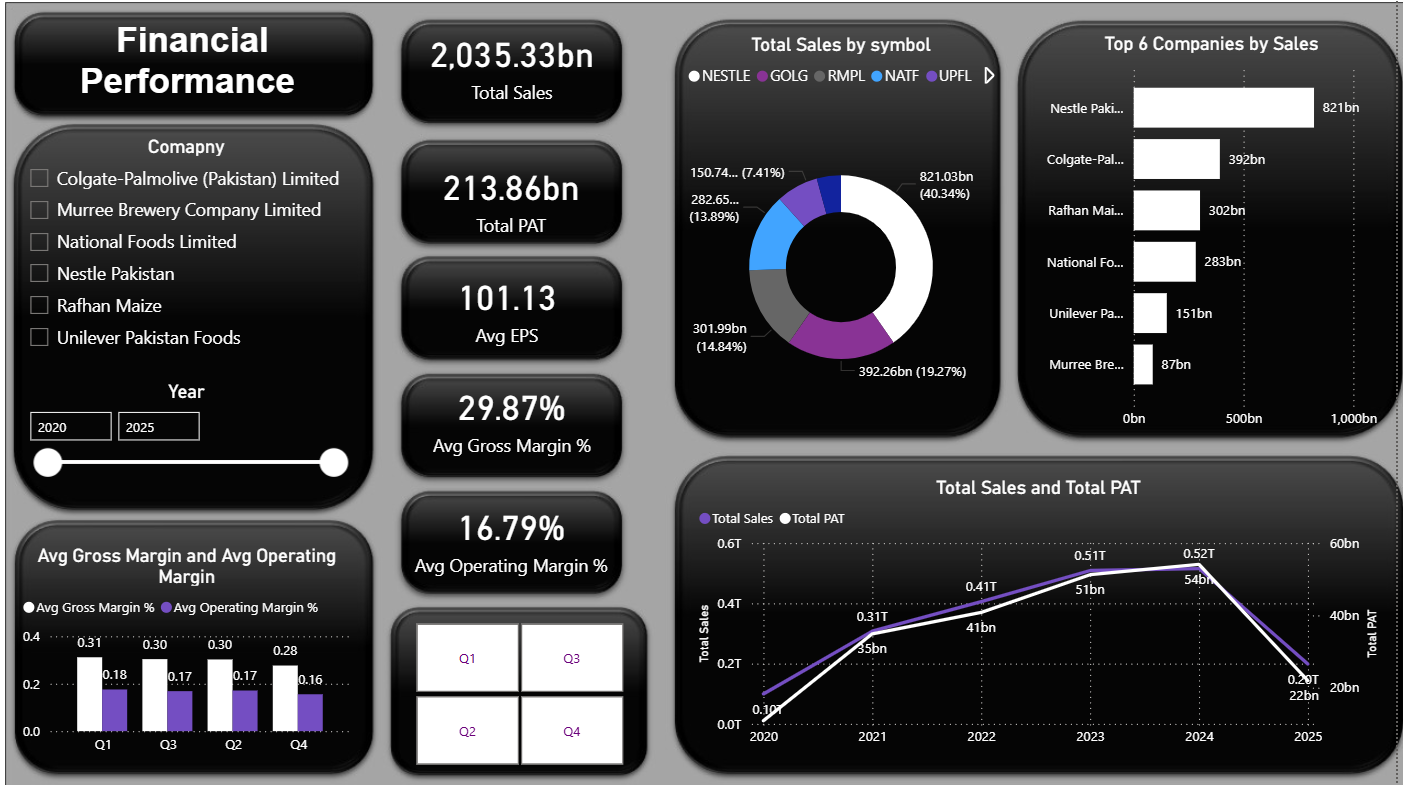

The dashboard page shown, as its layout file describes it:
{"tool":"powerbi","page":{"name":"Finacial Performance","canvas":[1280,720],"ordinal":0},"visuals":[{"type":"card","fields":{"Values":["FinancialPerformanceMart.Total Sales"]},"box":[340.2,11,272.6,94.8],"z":0},{"type":"slicer","title":"Comapny","fields":{"Values":["FinancialPerformanceMart.company_name"]},"box":[25.8,122.8,309.5,207.3],"z":1000},{"type":"slicer","title":"Year","fields":{"Values":["FinancialPerformanceMart.year"]},"box":[25.8,345.1,309.5,121.9],"z":2000},{"type":"card","fields":{"Values":["FinancialPerformanceMart.Total PAT"]},"box":[362.3,113.2,227.5,130.8],"z":3000},{"type":"card","fields":{"Values":["FinancialPerformanceMart.Avg Gross Margin %"]},"box":[352.1,324.1,248.6,111.4],"z":4000},{"type":"card","fields":{"Values":["FinancialPerformanceMart.Avg Operating Margin %"]},"box":[362.3,429.1,227.5,117.9],"z":5000},{"type":"card","fields":{"Values":["FinancialPerformanceMart.Avg EPS"]},"box":[335.6,220,272.6,117.9],"z":6000},{"type":"lineChart","title":"Total Sales and Total PAT","fields":{"Category":["FinancialPerformanceMart.year"],"Y":["FinancialPerformanceMart.Total Sales"],"Y2":["FinancialPerformanceMart.Total PAT"]},"box":[641.3,432.3,628,255.3],"z":7000},{"type":"clusteredBarChart","title":"Top 6 Companies by Sales","fields":{"Y":["FinancialPerformanceMart.Total Sales"],"Category":["FinancialPerformanceMart.company_name"]},"box":[944.7,29.4,335.3,369.1],"z":8000},{"type":"slicer","fields":{"Values":["FinancialPerformanceMart.quarter"]},"box":[363.8,560.4,237.5,142.3],"z":9000},{"type":"clusteredColumnChart","title":"Avg Gross Margin  and Avg Operating Margin ","fields":{"Category":["FinancialPerformanceMart.quarter"],"Y":["FinancialPerformanceMart.Avg Gross Margin %","FinancialPerformanceMart.Avg Operating Margin %"]},"box":[26.7,494.6,308.7,200.1],"z":10000},{"type":"donutChart","fields":{"Category":["FinancialPerformanceMart.symbol"],"Y":["FinancialPerformanceMart.Total Sales"]},"box":[630.7,30.2,289.1,378],"z":11000},{"type":"textbox","box":[36.4,13.6,299.1,124.5],"z":13000}]}

Visuals, with their boxes in screenshot pixels (x1, y1, x2, y2), scaled from the page's 1280x720 canvas onto the 1403x785 screenshot:
card - FinancialPerformanceMart.Total Sales: x1=373 y1=12 x2=672 y2=115
"Comapny" slicer: x1=28 y1=134 x2=368 y2=360
"Year" slicer: x1=28 y1=376 x2=368 y2=509
card - FinancialPerformanceMart.Total PAT: x1=397 y1=123 x2=646 y2=266
card - FinancialPerformanceMart.Avg Gross Margin %: x1=386 y1=353 x2=658 y2=475
card - FinancialPerformanceMart.Avg Operating Margin %: x1=397 y1=468 x2=646 y2=596
card - FinancialPerformanceMart.Avg EPS: x1=368 y1=240 x2=667 y2=368
"Total Sales and Total PAT" lineChart: x1=703 y1=471 x2=1391 y2=750
"Top 6 Companies by Sales" clusteredBarChart: x1=1035 y1=32 x2=1402 y2=434
slicer - FinancialPerformanceMart.quarter: x1=399 y1=611 x2=659 y2=766
"Avg Gross Margin  and Avg Operating Margin " clusteredColumnChart: x1=29 y1=539 x2=368 y2=757
donutChart - FinancialPerformanceMart.symbol x FinancialPerformanceMart.Total Sales: x1=691 y1=33 x2=1008 y2=445
textbox: x1=40 y1=15 x2=368 y2=151
